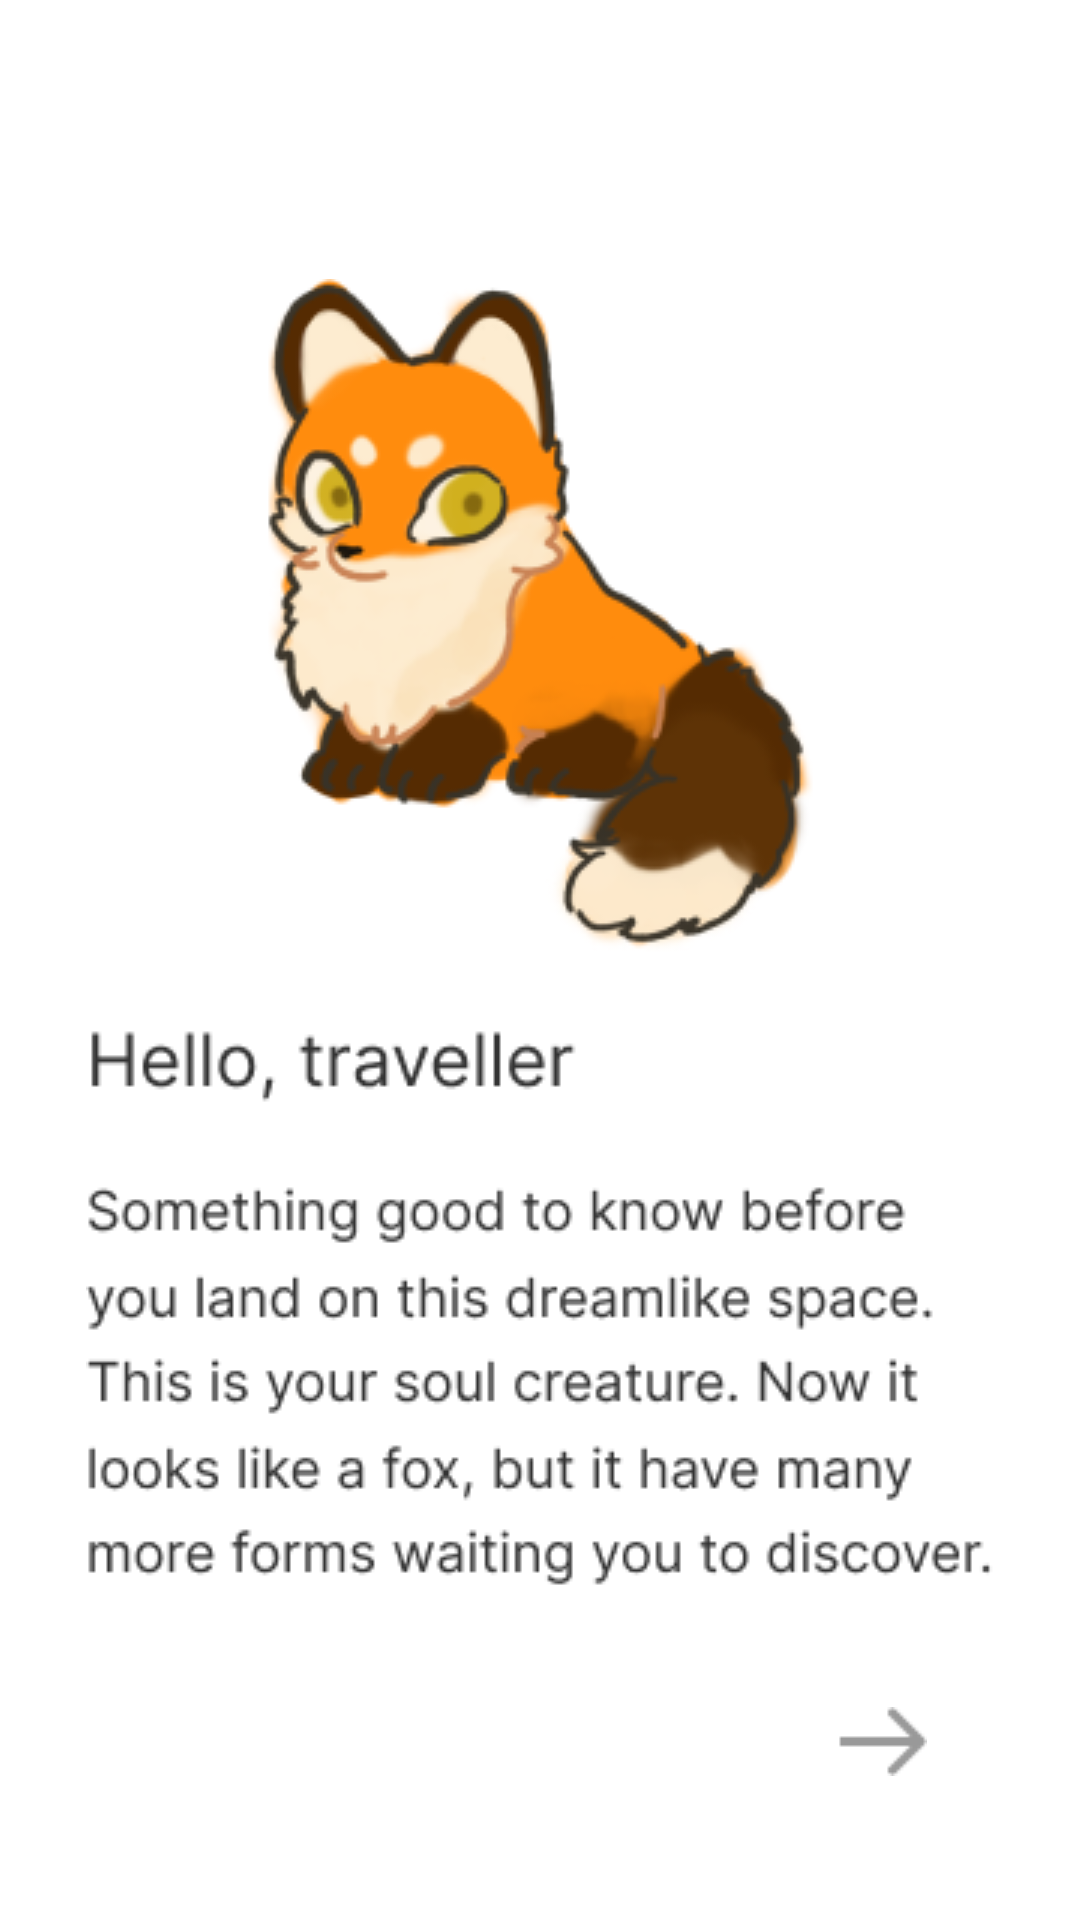

Icon click points for this 1080x1920 phone screenshot, format (x,y):
page arrow: (883,1741)
